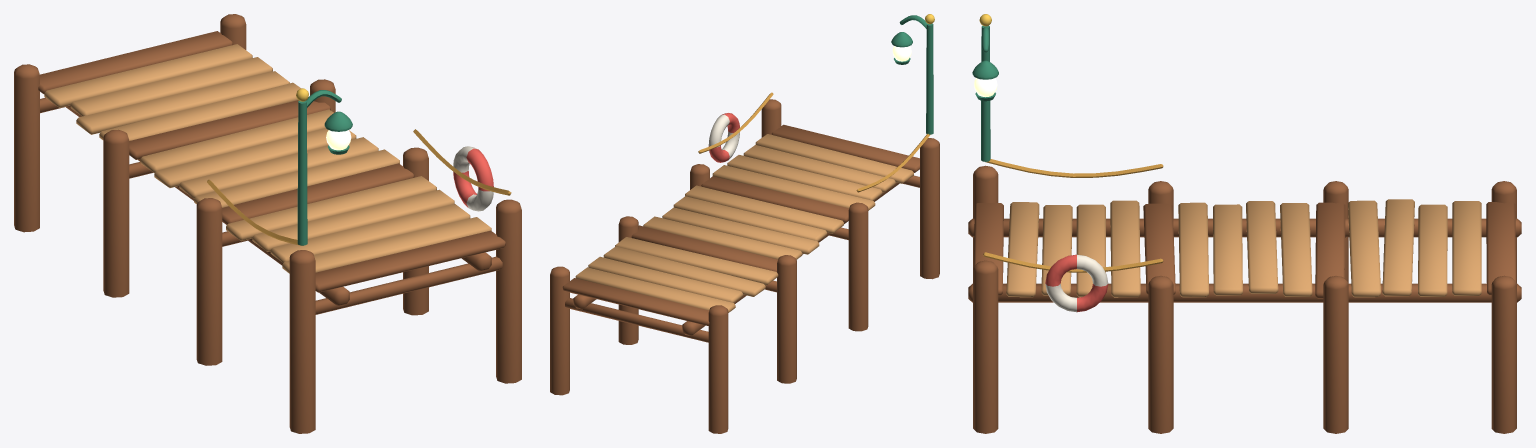
File: prop_dock.glb
The picture shows the model from 3 angles, left to right: view 1: azimuth 30°, elevation 25°; view 2: azimuth 150°, elevation 25°; view 3: azimuth 270°, elevation 25°; orthographic projection. The views are drawn at different scales.
Parts seen in each view (by area): view 1: prop_dock; view 2: prop_dock; view 3: prop_dock.
Boxes of the visible parts, bbox=[...] form: prop_dock: bbox=[14, 14, 521, 433]; prop_dock: bbox=[550, 14, 939, 433]; prop_dock: bbox=[968, 14, 1521, 433].
Bounding box in the file's own units: 1.84 × 2.51 × 3.95.
